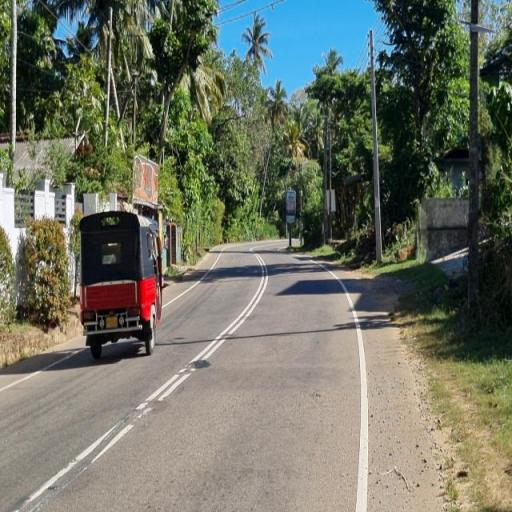double_white_line: (128, 258, 269, 420)
